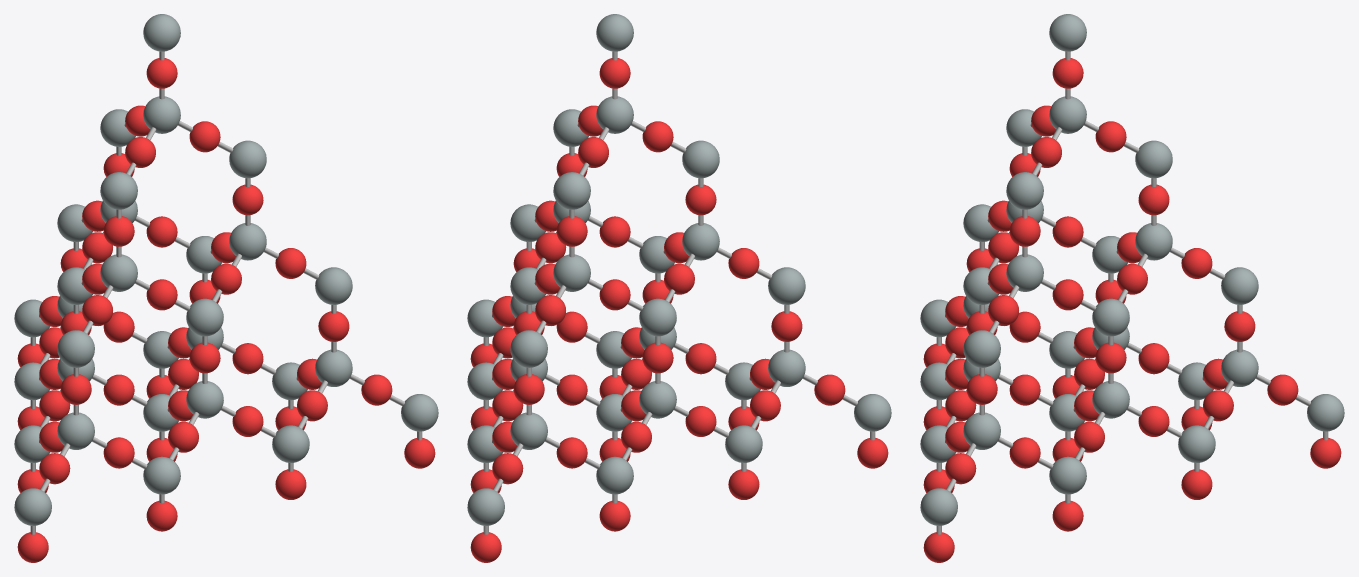
Rendered from yzjt2_B.gltf.
3 views of the same model, side by side, from view 1: azimuth 30°, elevation 25°; view 2: azimuth 150°, elevation 25°; view 3: azimuth 270°, elevation 25° (orthographic).
Parts seen in each view (by area): view 1: O, Si, gun; view 2: O, Si, gun; view 3: O, Si, gun.
Part boxes in pixels (x1,y1,x2,y2): O: (17,58,435,562); Si: (14,14,438,525); gun: (30,51,422,534); O: (470,58,888,562); Si: (467,14,891,525); gun: (483,51,875,534); O: (923,58,1341,562); Si: (920,14,1344,525); gun: (936,51,1328,534).
Size of the model in its own units: 138 by 142 by 121.
